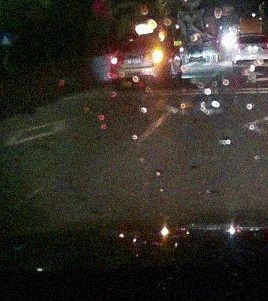L_light: (109, 56, 125, 65)
R_light: (144, 54, 163, 62)
T_light: (134, 38, 146, 41)
night-right: (107, 35, 170, 87)
